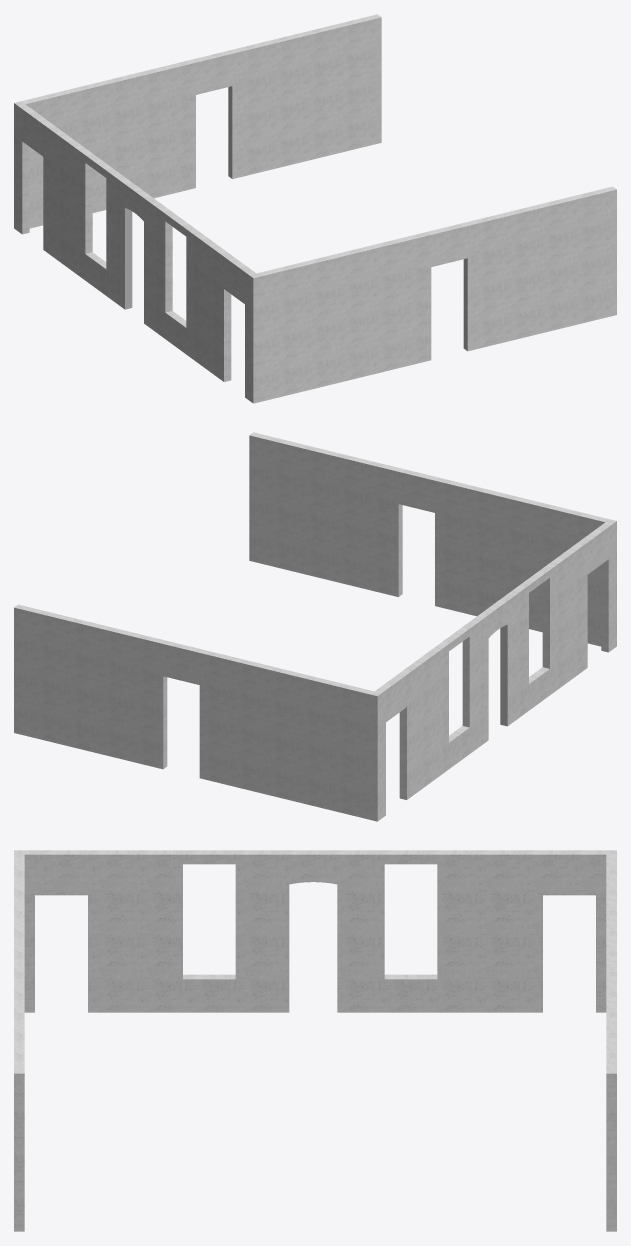
Rendered from G層娛樂室 wall 20210621.gltf.
3 views of the same model, one above another, from view 1: azimuth 30°, elevation 25°; view 2: azimuth 150°, elevation 25°; view 3: azimuth 270°, elevation 25° (orthographic). The views are drawn at different scales.
Visible parts, largest first — view 1: root; view 2: root; view 3: root.
Part boxes in pixels (x1,y1,x2,y2): root: (14,14,616,403); root: (14,432,616,821); root: (14,850,616,1231).
Size of the model in its own units: 10.01 by 3.3 by 11.42.
Materials: 2 (1 with a texture image).
